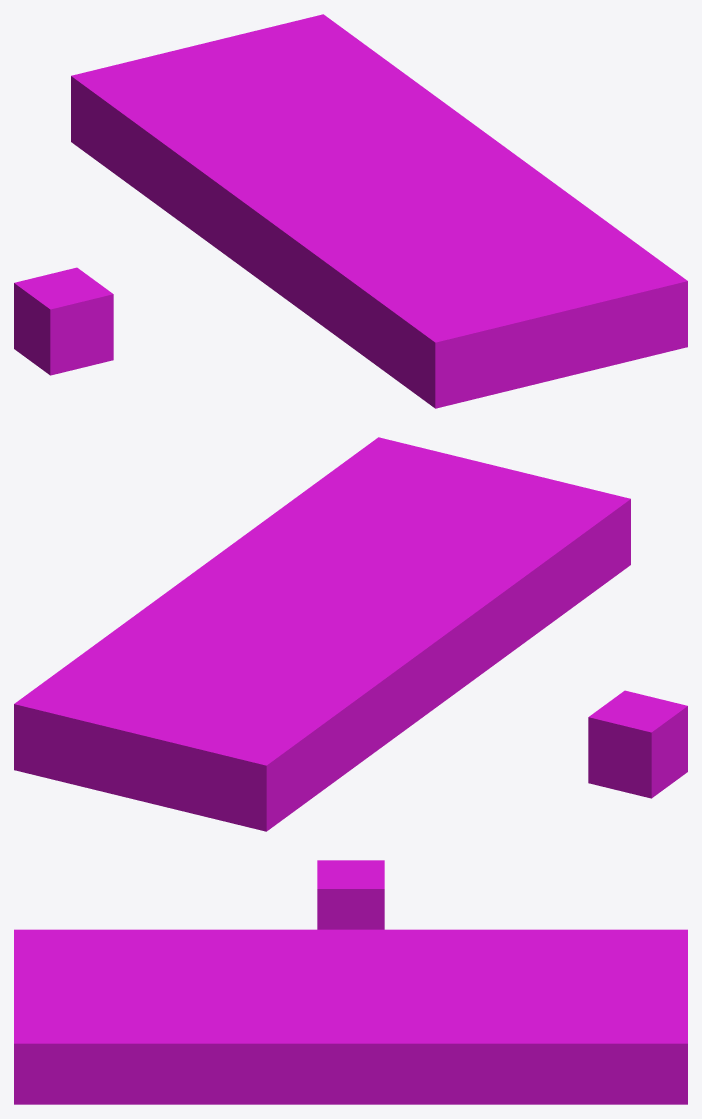
Rendered from asset.glb.
3 renders of one model, top to bottom at view 1: azimuth 30°, elevation 25°; view 2: azimuth 150°, elevation 25°; view 3: azimuth 270°, elevation 25°, orthographic. The views are drawn at different scales.
Visible parts, largest first — view 1: Cube.001, Cube; view 2: Cube.001, Cube; view 3: Cube.001, Cube.
Boxes of the visible parts, <box> form: Cube.001: <box>71,14,687,408</box>; Cube: <box>14,267,113,375</box>; Cube.001: <box>14,437,630,831</box>; Cube: <box>588,690,687,798</box>; Cube.001: <box>14,929,687,1104</box>; Cube: <box>317,860,384,929</box>.
Size of the model in its own units: 15 by 3 by 20.
